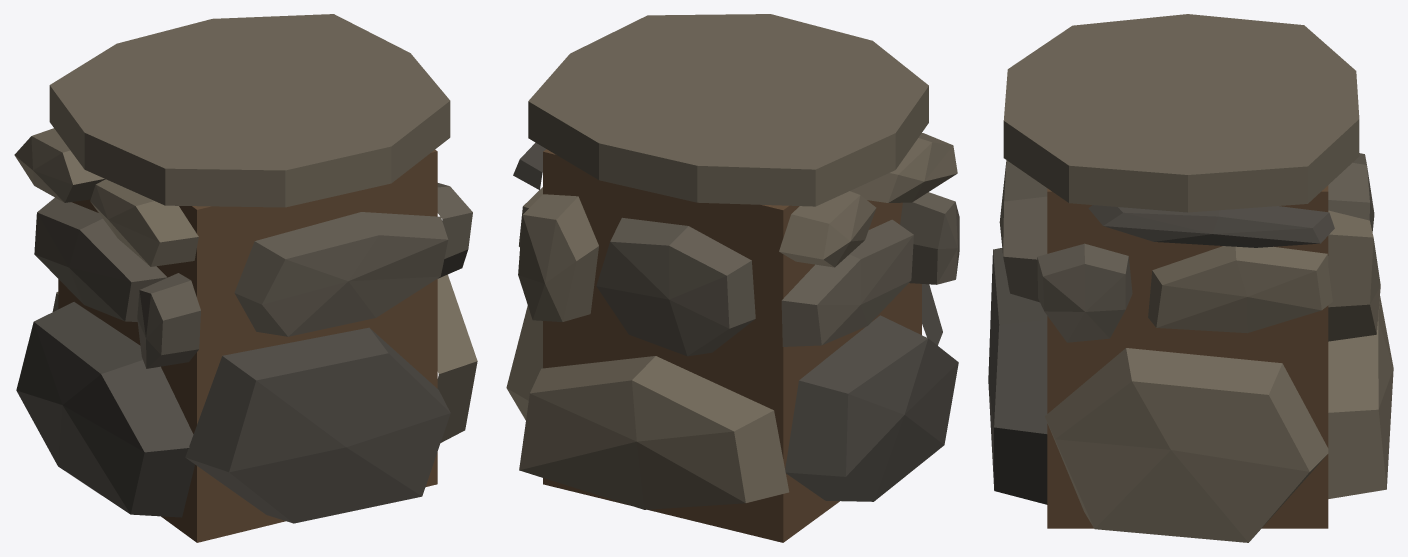
Rendered from pch_pedestal.glb.
The picture shows the model from 3 angles, left to right: view 1: azimuth 30°, elevation 25°; view 2: azimuth 150°, elevation 25°; view 3: azimuth 270°, elevation 25°; orthographic projection.
Parts seen in each view (by area): view 1: pch_pedestal; view 2: pch_pedestal; view 3: pch_pedestal.
Part boxes in pixels (<box>): pch_pedestal: <box>14,14,477,542</box>; pch_pedestal: <box>506,14,959,542</box>; pch_pedestal: <box>988,14,1393,542</box>.
Bounding box in the file's own units: 0.7984 × 0.8 × 0.7844.
